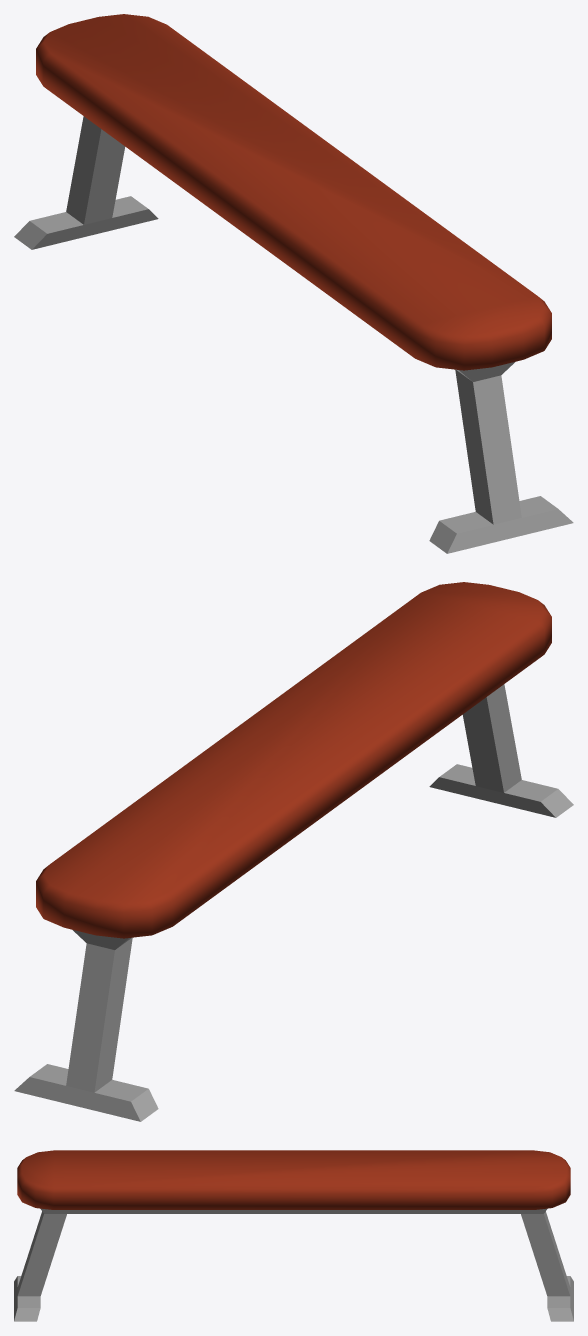
File: bench-b.glb
3 views of the same model, one above another, from view 1: azimuth 30°, elevation 25°; view 2: azimuth 150°, elevation 25°; view 3: azimuth 270°, elevation 25° (orthographic). The views are drawn at different scales.
Parts seen in each view (by area): view 1: Bench_B; view 2: Bench_B; view 3: Bench_B.
Part boxes in pixels (bbox=[...]): Bench_B: bbox=[14, 14, 573, 553]; Bench_B: bbox=[14, 582, 573, 1121]; Bench_B: bbox=[14, 1150, 573, 1321].
Bounding box in the file's own units: 32.96 × 49.99 × 191.
1 material, 1 textured.
